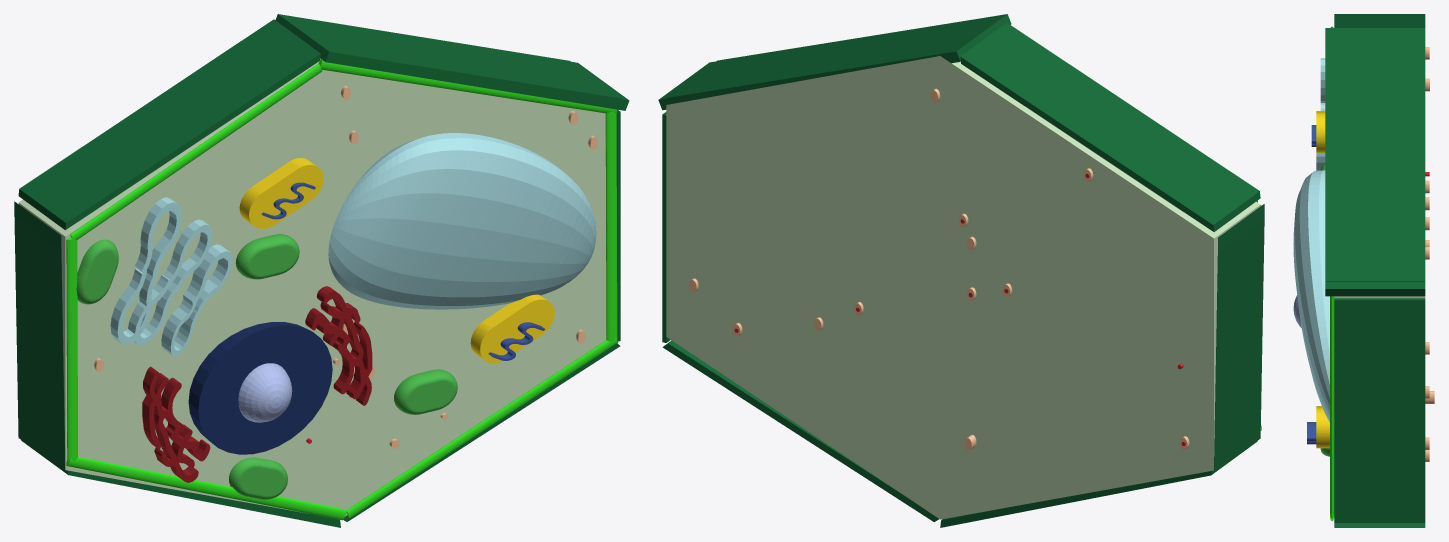
Rendered from cell.obj.
The picture shows the model from 3 angles, left to right: view 1: azimuth 30°, elevation 25°; view 2: azimuth 150°, elevation 25°; view 3: azimuth 270°, elevation 25°; orthographic projection. The views are drawn at different scales.
Visible parts, largest first — view 1: group_0_13165757, group_0_11593967, group_0_1206582, group_0_3140382, group_0_1650274, group_0_4634441, group_0_9771553, group_0_16768282, group_0_11452141, group_0_3888547, group_0_16500122; view 2: group_0_13165757, group_0_1206582, group_0_16500122; view 3: group_0_1206582, group_0_11593967, group_0_3140382, group_0_16768282, group_0_16500122, group_0_3888547, group_0_13165757.
Boxes of the visible parts, x1,y1,x2,y2 form: group_0_13165757: (18, 58, 606, 516); group_0_11593967: (110, 133, 596, 356); group_0_1206582: (14, 14, 629, 527); group_0_3140382: (66, 58, 618, 520); group_0_1650274: (188, 322, 332, 454); group_0_4634441: (76, 234, 457, 499); group_0_9771553: (142, 286, 372, 482); group_0_16768282: (239, 158, 554, 363); group_0_11452141: (238, 363, 292, 422); group_0_3888547: (261, 182, 545, 360); group_0_16500122: (94, 85, 597, 448); group_0_13165757: (666, 56, 1260, 519); group_0_1206582: (658, 14, 1264, 527); group_0_16500122: (689, 88, 1189, 450); group_0_1206582: (1325, 14, 1425, 527); group_0_11593967: (1293, 58, 1329, 422); group_0_3140382: (1330, 26, 1334, 520); group_0_16768282: (1316, 111, 1329, 448); group_0_16500122: (1425, 47, 1434, 461); group_0_3888547: (1307, 125, 1316, 444); group_0_13165757: (1334, 296, 1425, 298).
Bounding box in the file's own units: 139 × 114 × 31.
